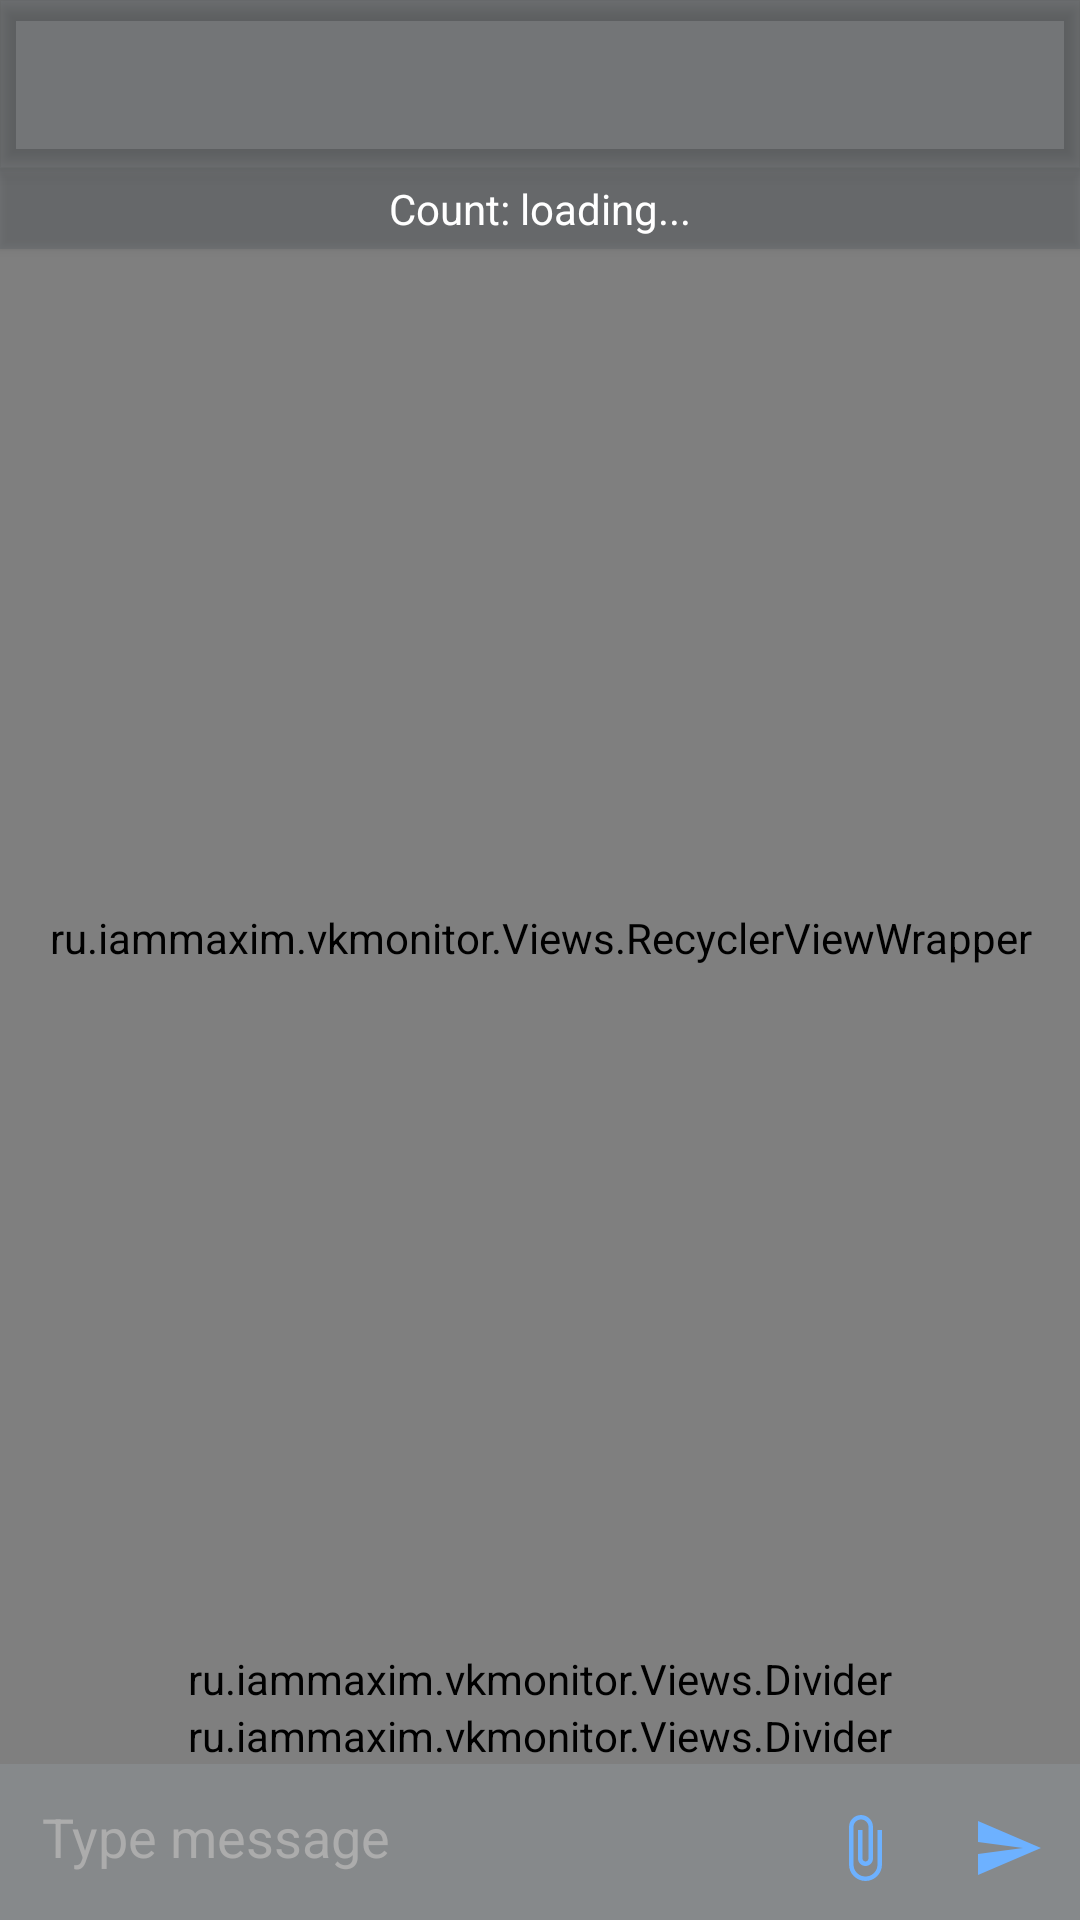

Screen size 1080 x 1920. Icon name, then its box in pixels as (x1, y1, x2, y2):
attach file: (849, 1815, 882, 1881)
send: (978, 1821, 1040, 1875)
